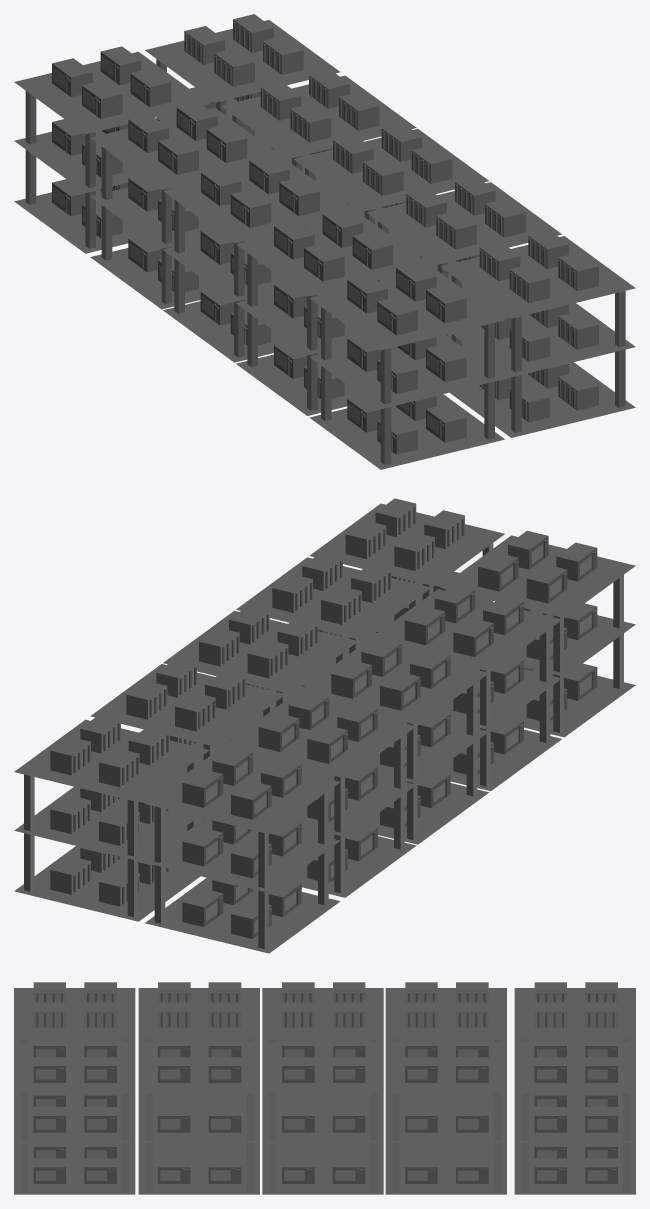
Rendered from EstanteTecnologia2x5_atlas.obj.
The picture shows the model from 3 angles, top to bottom: view 1: azimuth 30°, elevation 25°; view 2: azimuth 150°, elevation 25°; view 3: azimuth 270°, elevation 25°; orthographic projection. The views are drawn at different scales.
Visible parts, largest first — view 1: EstanteTecnologia5x2; view 2: EstanteTecnologia5x2; view 3: EstanteTecnologia5x2.
Part boxes in pixels (x1=…): EstanteTecnologia5x2: x1=14, y1=14, x2=635, y2=469; EstanteTecnologia5x2: x1=14, y1=498, x2=635, y2=953; EstanteTecnologia5x2: x1=14, y1=982, x2=635, y2=1194.
Size of the model in its own units: 4.1 by 2.14 by 10.2.
